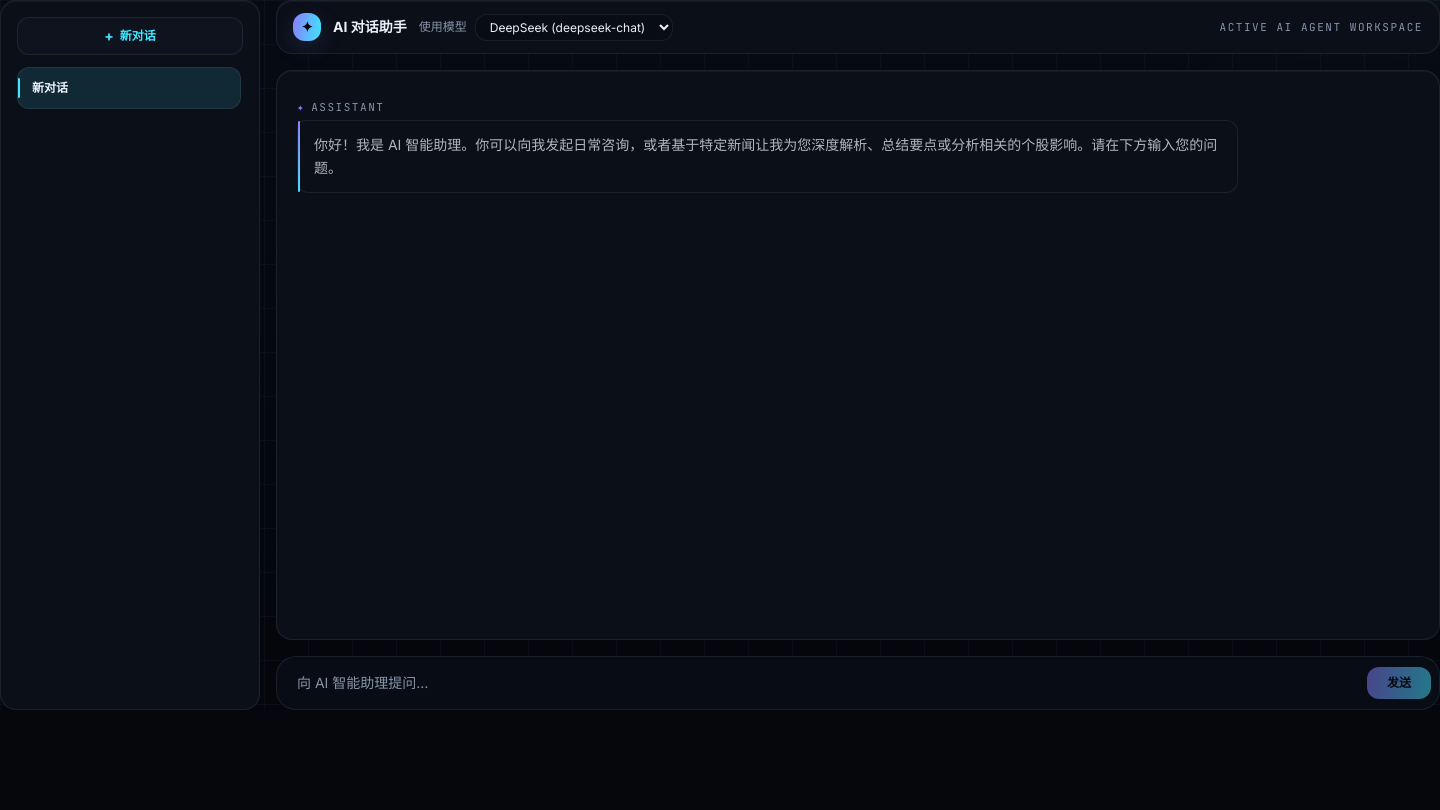
ChatView › creates a new chat session from the sidebar
Expected: the number of elements with class "group" is 1, top-left (17, 67), bottom-right (241, 109)
Step 1. Click the button "+ 新对话" → (130, 36), box top-left (17, 17), bottom-right (243, 55)
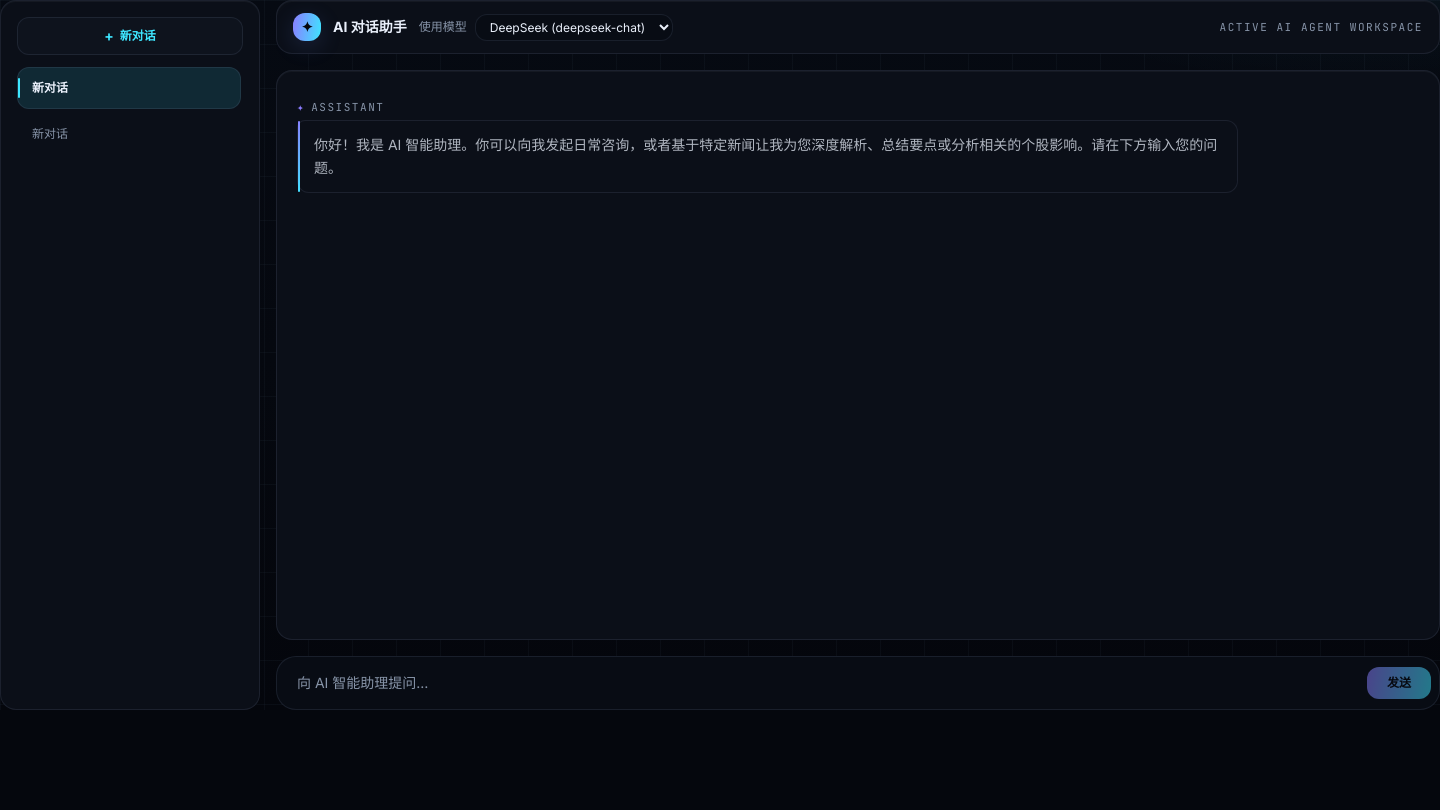
Now the number of elements with class "group" is 2, box top-left (17, 67), bottom-right (241, 109); top-left (32, 126), bottom-right (68, 141)
